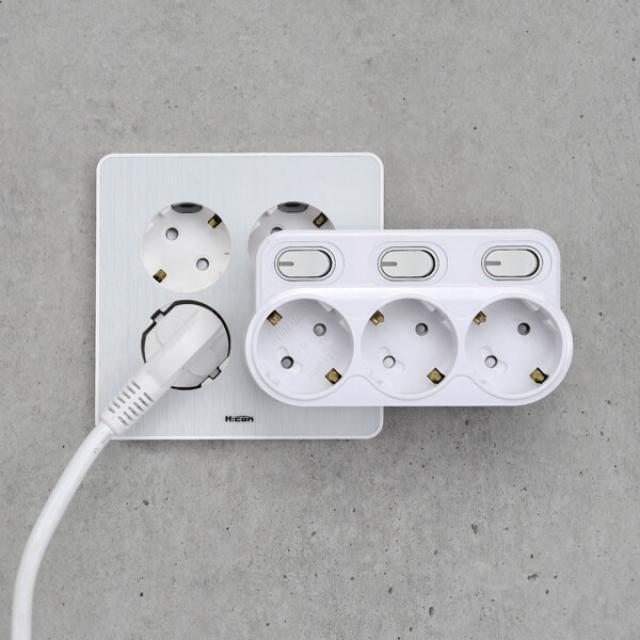typeb: (249, 198, 587, 451)
